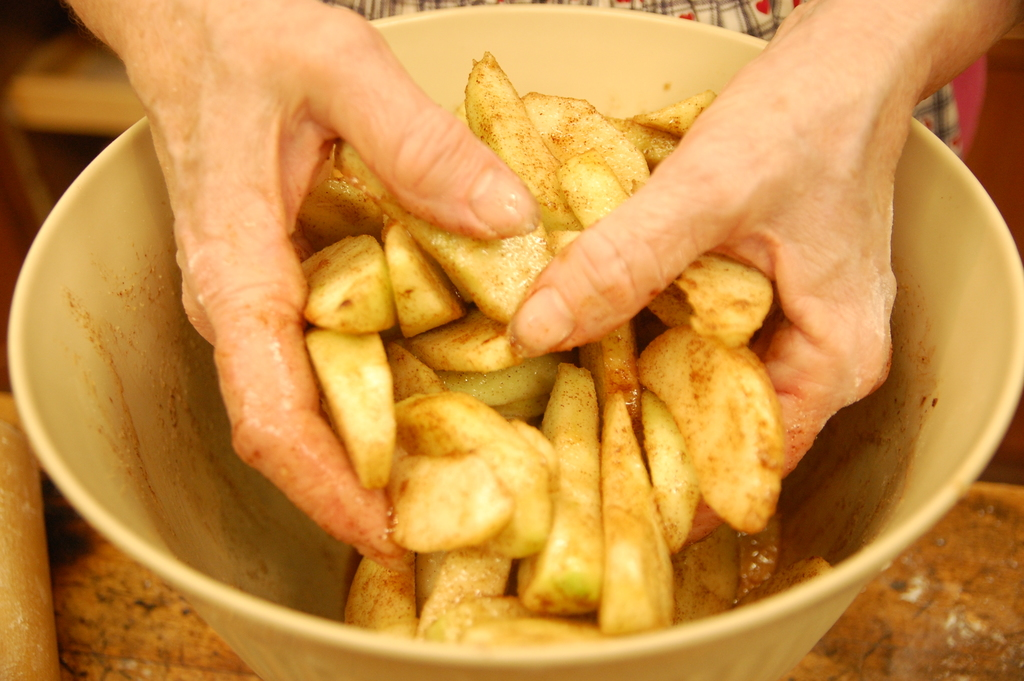French fries: (291, 50, 834, 647)
